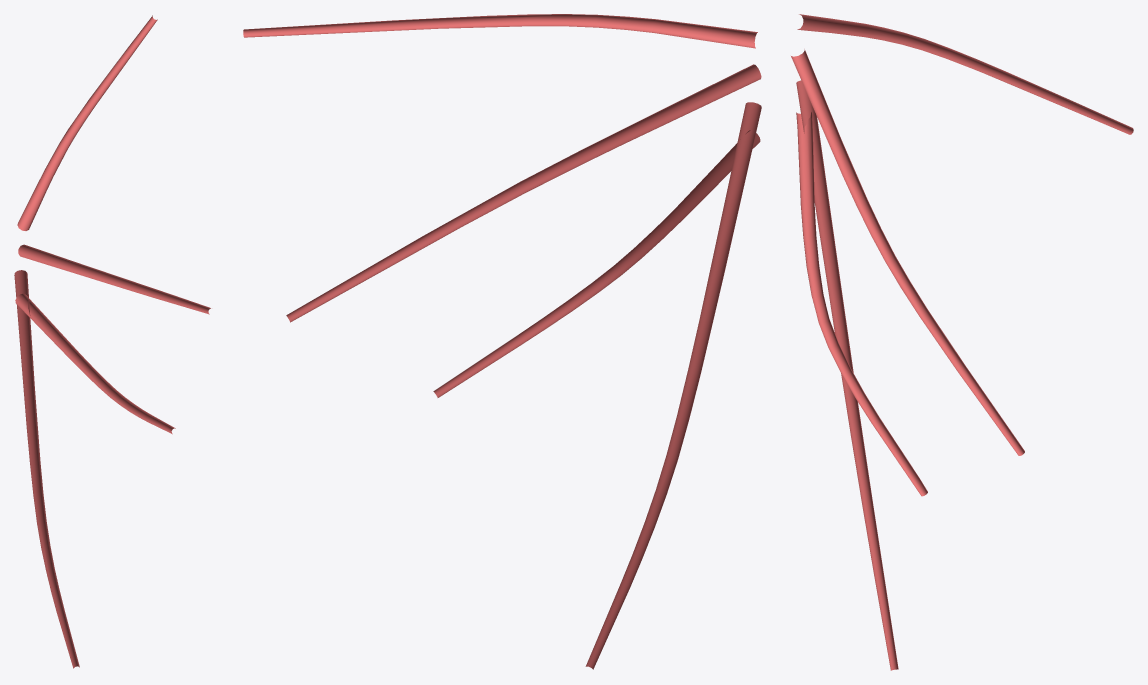
File: anatomyverse-mesenteric.glb
The picture shows the model from 3 angles, left to right: view 1: azimuth 30°, elevation 25°; view 2: azimuth 150°, elevation 25°; view 3: azimuth 270°, elevation 25°; orthographic projection. The views are drawn at different scales.
Parts seen in each view (by area): view 1: zm_ima_branches; view 2: zm_ima_branches; view 3: zm_ima_branches.
Part boxes in pixels (<box>): zm_ima_branches: <box>14,15,210,668</box>; zm_ima_branches: <box>243,14,761,669</box>; zm_ima_branches: <box>791,14,1133,670</box>.
Bounding box in the file's own units: 0.0603 × 0.1078 × 0.0519.
